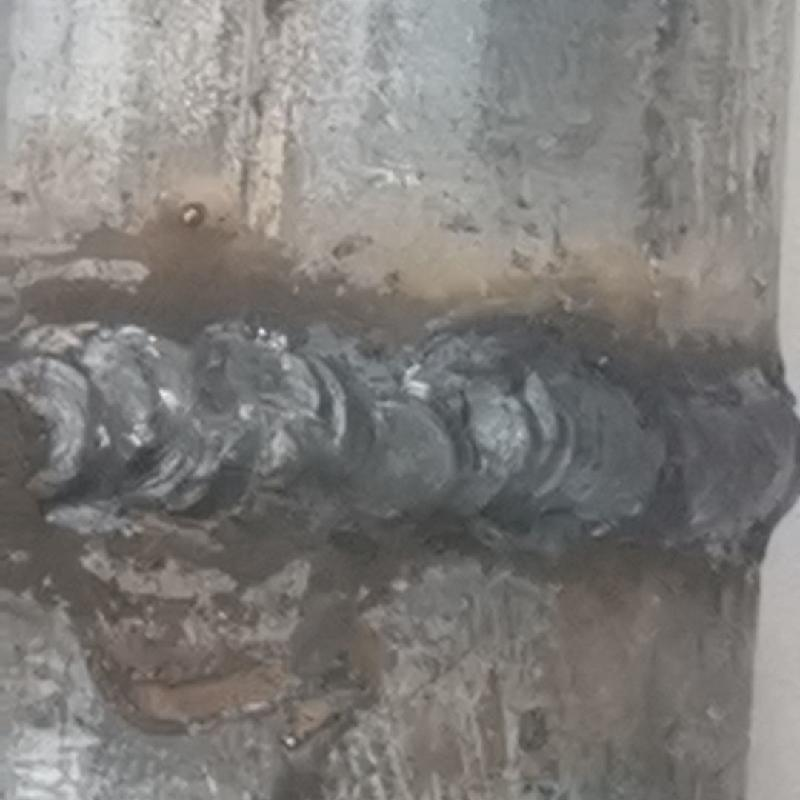good: (2, 292, 799, 552)
